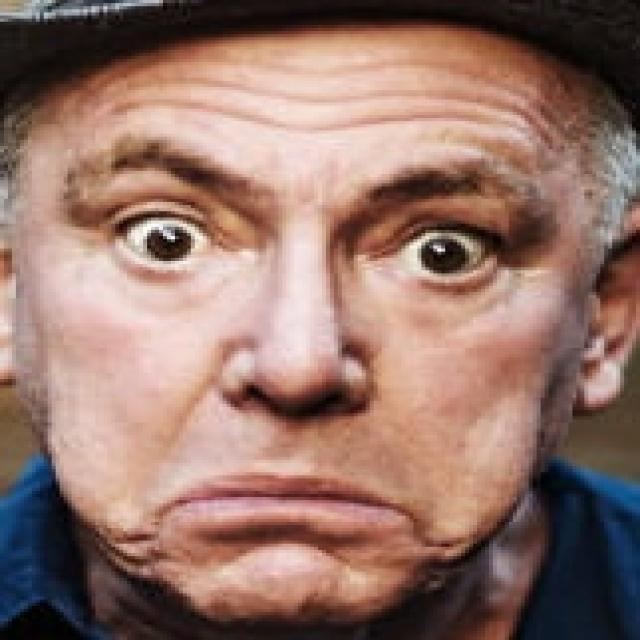Anxiety: (12, 26, 602, 631)
